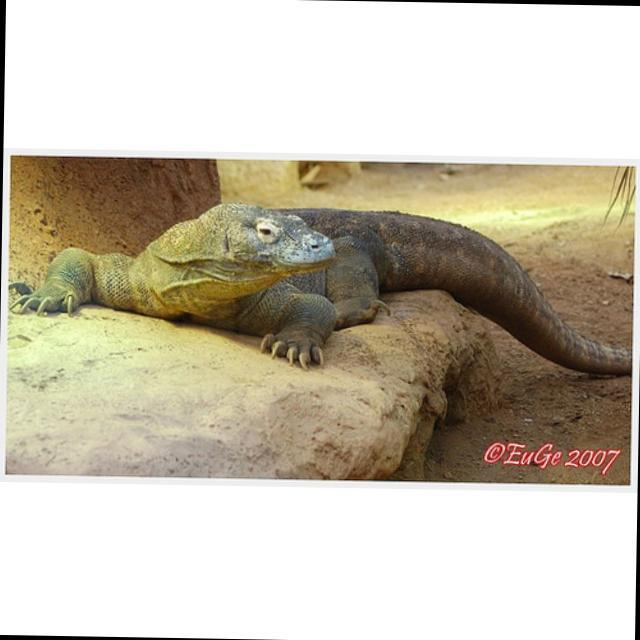KomodoDragon: (6, 197, 629, 378)
